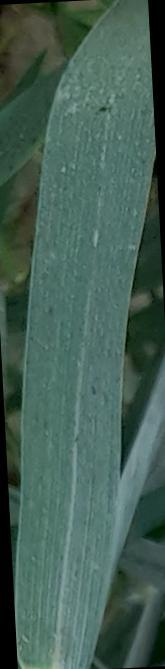Wheat: (30, 381, 92, 663), (45, 164, 118, 377), (80, 55, 146, 164)
